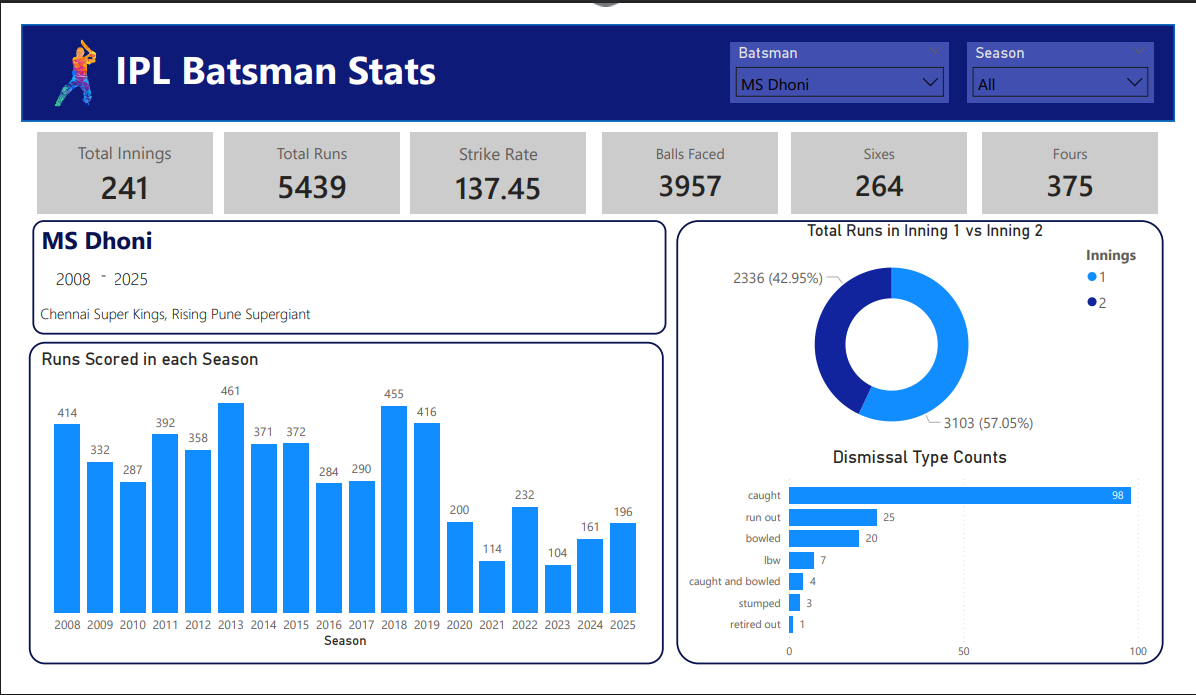

The dashboard page shown, as its layout file describes it:
{"tool":"powerbi","page":{"name":"batsman","canvas":[1280,720],"ordinal":2},"visuals":[{"type":"shape","box":[0,0,1280,106.7],"z":0},{"type":"textbox","box":[96.7,15,370,75],"z":1000},{"type":"slicer","fields":{"Values":["ipl_balls.batter"]},"box":[786.7,20,243.3,66.7],"z":2000},{"type":"slicer","fields":{"Values":["ipl_matches.season"]},"box":[1050,20,206.7,66.7],"z":3000},{"type":"cardVisual","fields":{"Data":["Sum(ipl_balls.runs_batter)"]},"box":[225,120,195,90],"z":4000},{"type":"cardVisual","fields":{"Data":["CountNonNull(ipl_balls.runs_batter)"]},"box":[855,120,195,90],"z":5000},{"type":"cardVisual","fields":{"Data":["CountNonNull(ipl_balls.runs_batter)"]},"box":[1066.7,120,195,90],"z":6000},{"type":"cardVisual","fields":{"Data":["Sum(ipl_balls.balls_faced)"]},"box":[645,120,195,90],"z":7000},{"type":"cardVisual","fields":{"Data":["ipl_balls.strike_rate"]},"box":[432,120,195,90],"z":8000},{"type":"cardVisual","fields":{"Data":["CountNonNull(ipl_matches.match_id)"]},"box":[16.7,120,195,90],"z":9000},{"type":"shape","box":[11.8,217.5,703.8,126.4],"z":10000},{"type":"shape","box":[8.3,352,705,358.3],"z":11000},{"type":"columnChart","title":"Runs Scored in each Season","fields":{"Y":["Sum(ipl_balls.runs_batter)"],"Category":["ipl_matches.season"]},"box":[16.7,360,685,336.7],"z":12000},{"type":"cardVisual","fields":{"Data":["Min(ipl_balls.batter)"]},"box":[16.2,217.5,684.7,39.7],"z":13000},{"type":"cardVisual","fields":{"Data":["ipl_balls.teams_played_batting"]},"box":[16.2,296.8,696.5,45.6],"z":14000},{"type":"shape","box":[726.7,216.7,541.7,493.3],"z":15000},{"type":"donutChart","title":"Total Runs in Inning 1 vs Inning 2","fields":{"Y":["Sum(ipl_balls.runs_batter)"],"Category":["ipl_balls.innings"]},"box":[745,216.7,516.7,250],"z":16000},{"type":"barChart","title":"Dismissal Type Counts","fields":{"Category":["ipl_balls.wicket_kind"],"Y":["CountNonNull(ipl_balls.wicket_kind)"]},"box":[728.3,468.3,538.3,241.7],"z":17000},{"type":"image","box":[8.3,10,106.7,86.7],"z":18000},{"type":"cardVisual","fields":{"Data":["Min(ipl_matches.season)"]},"box":[11.8,257.1,70.5,45.6],"z":19000},{"type":"cardVisual","fields":{"Data":["Max(ipl_matches.season)"]},"box":[97,257.1,66.1,47],"z":20000},{"type":"textbox","box":[83,261,20,37],"z":21000}]}

Visuals, with their boxes on the page's 1280x720 design canvas (x1, y1, x2, y2). These are canvas units, not pixel positions in the 1196x695 screenshot, which may show the page scaled, cropped or inside an application window:
shape: crop(0, 0, 1280, 107)
textbox: crop(97, 15, 467, 90)
slicer - ipl_balls.batter: crop(787, 20, 1030, 87)
slicer - ipl_matches.season: crop(1050, 20, 1257, 87)
cardVisual - Sum(ipl_balls.runs_batter): crop(225, 120, 420, 210)
cardVisual - CountNonNull(ipl_balls.runs_batter): crop(855, 120, 1050, 210)
cardVisual - CountNonNull(ipl_balls.runs_batter): crop(1067, 120, 1262, 210)
cardVisual - Sum(ipl_balls.balls_faced): crop(645, 120, 840, 210)
cardVisual - ipl_balls.strike_rate: crop(432, 120, 627, 210)
cardVisual - CountNonNull(ipl_matches.match_id): crop(17, 120, 212, 210)
shape: crop(12, 218, 716, 344)
shape: crop(8, 352, 713, 710)
"Runs Scored in each Season" columnChart: crop(17, 360, 702, 697)
cardVisual - Min(ipl_balls.batter): crop(16, 218, 701, 257)
cardVisual - ipl_balls.teams_played_batting: crop(16, 297, 713, 342)
shape: crop(727, 217, 1268, 710)
"Total Runs in Inning 1 vs Inning 2" donutChart: crop(745, 217, 1262, 467)
"Dismissal Type Counts" barChart: crop(728, 468, 1267, 710)
image: crop(8, 10, 115, 97)
cardVisual - Min(ipl_matches.season): crop(12, 257, 82, 303)
cardVisual - Max(ipl_matches.season): crop(97, 257, 163, 304)
textbox: crop(83, 261, 103, 298)
